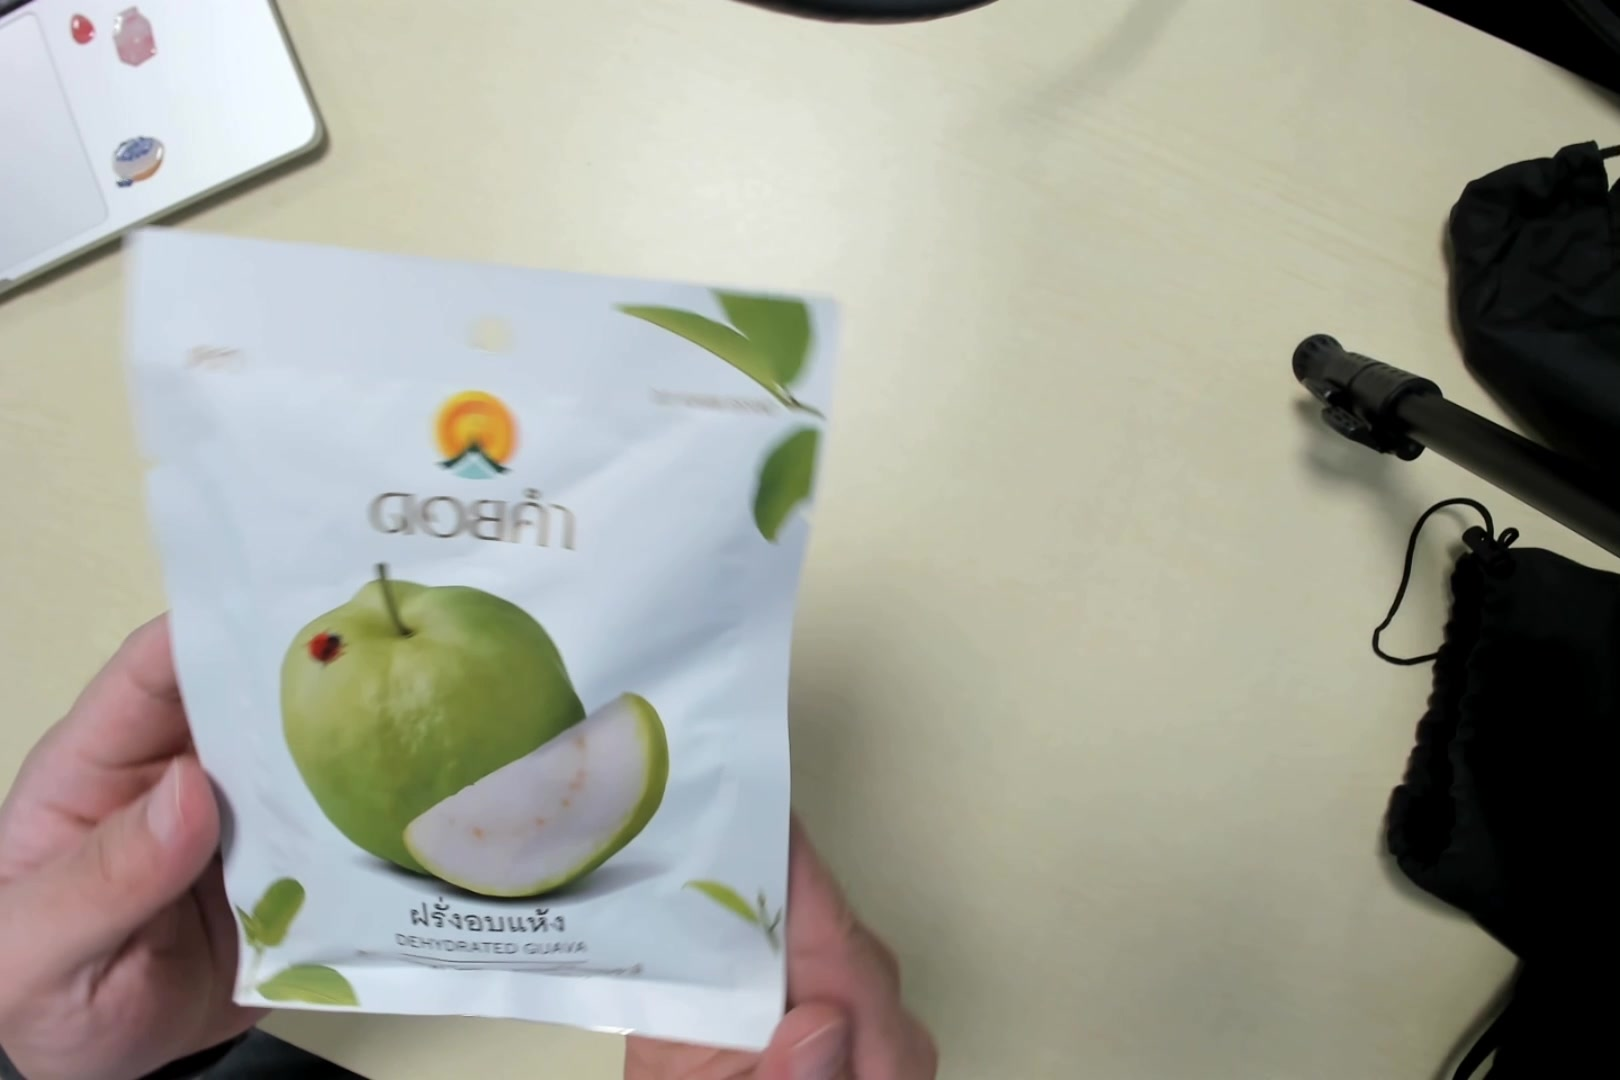DriedFruits_0-99g_Halal_NonHealthy: (142, 237, 788, 1053)
